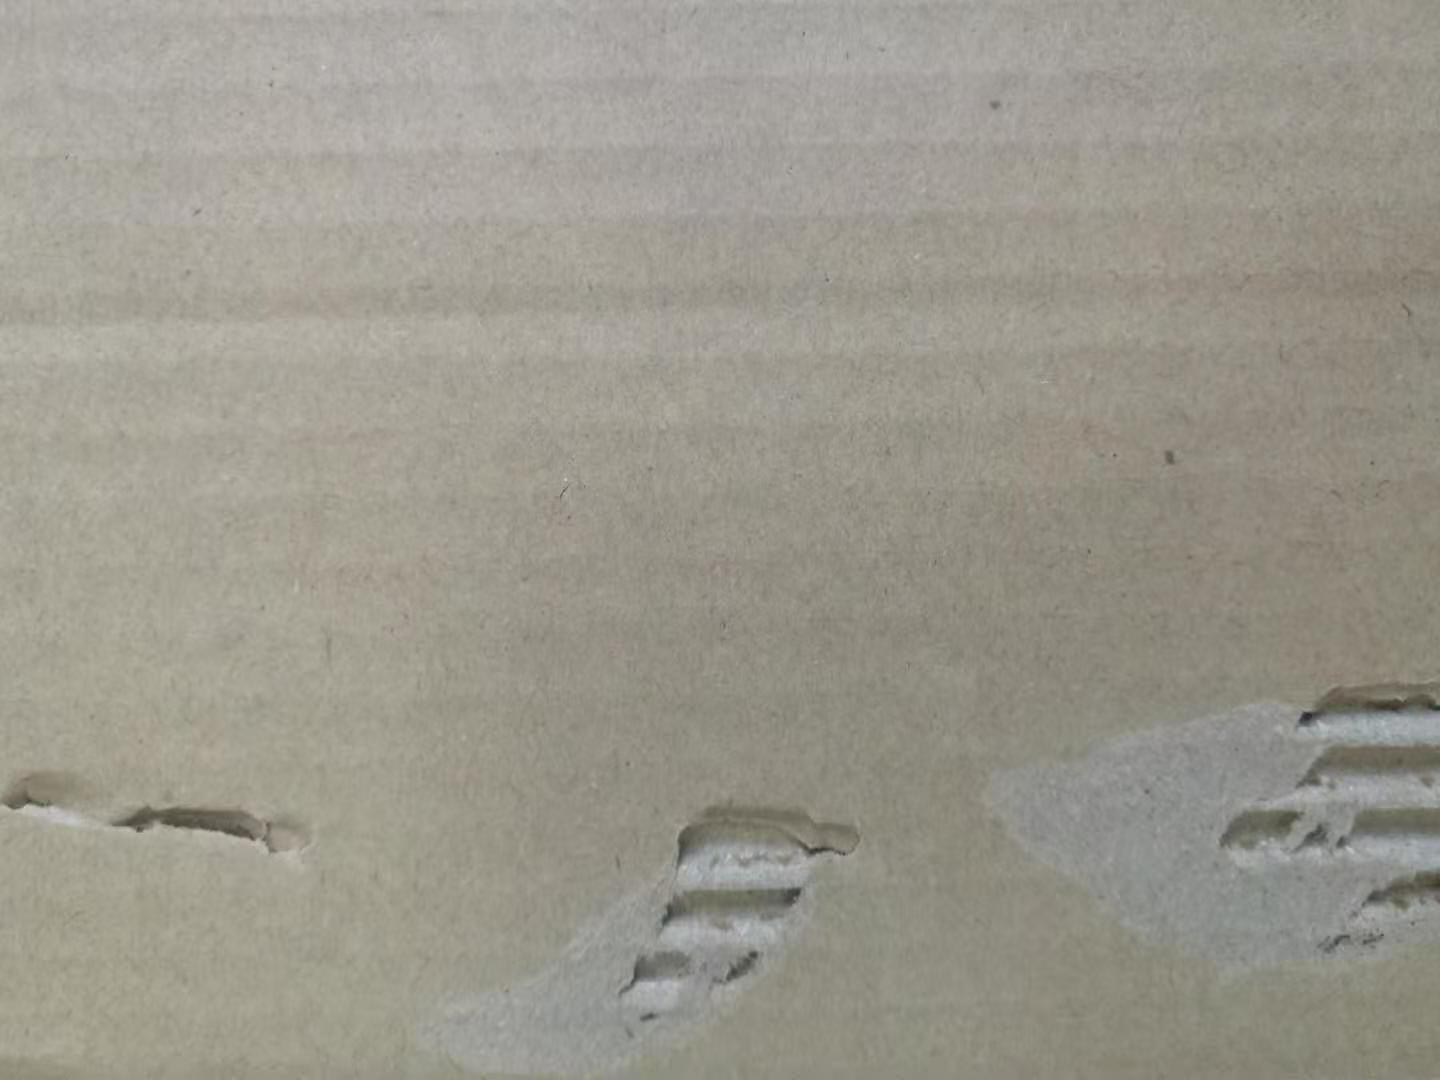defect: (947, 641, 1440, 1020), (397, 769, 903, 1080), (1, 746, 345, 897)
